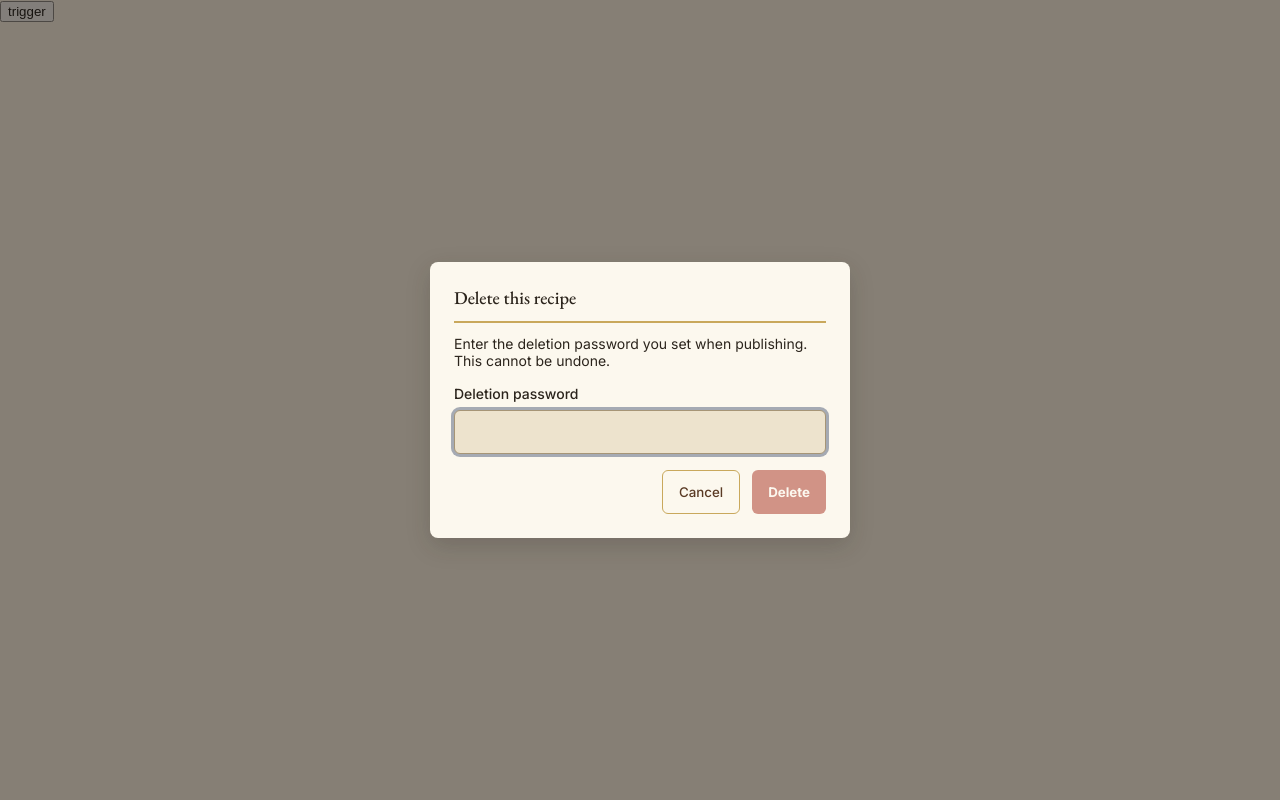
Test: DeleteRecipeDialog › 403でerrWrongPassword＋serverErrorを逐語表示する
Type "wrong-pw" into the password field labelled "Deletion password" at (640,432), box [454,410,826,454]
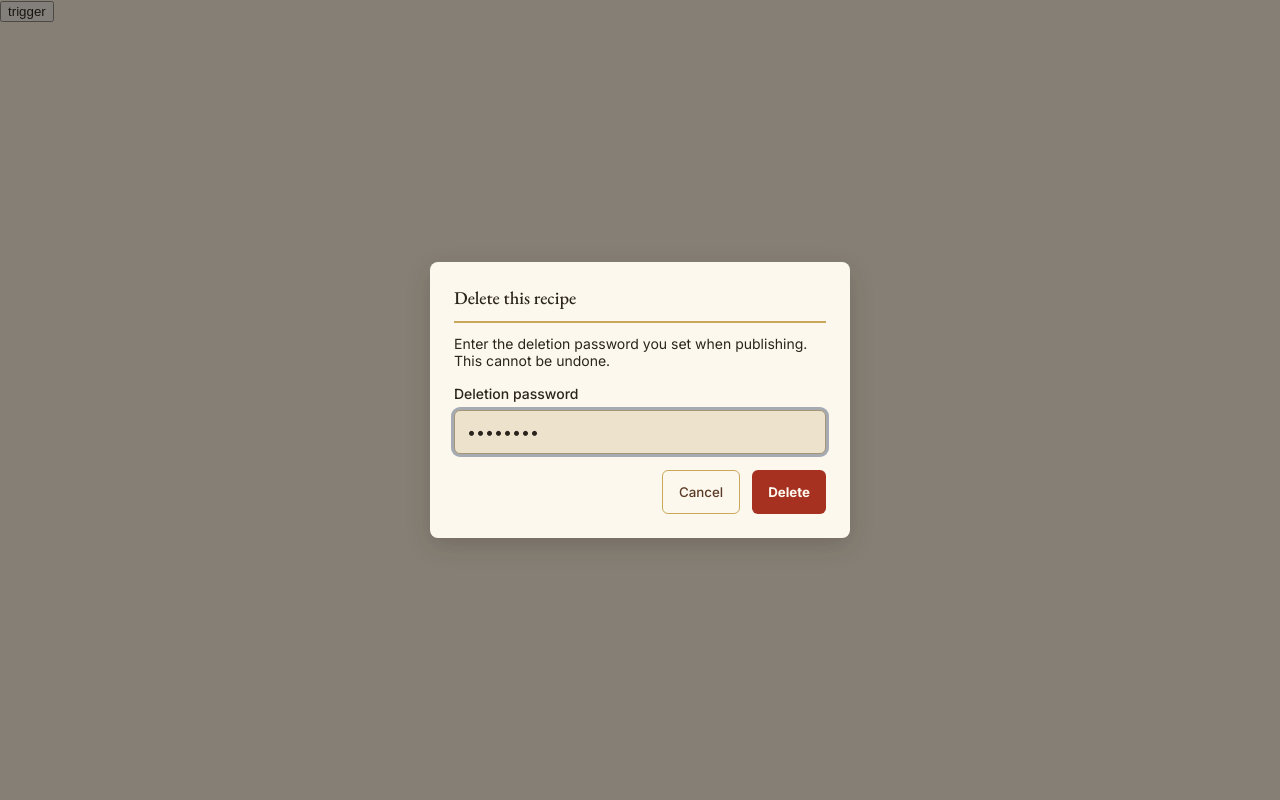
Click the button "Delete" at (789,492), box [752,470,826,514]
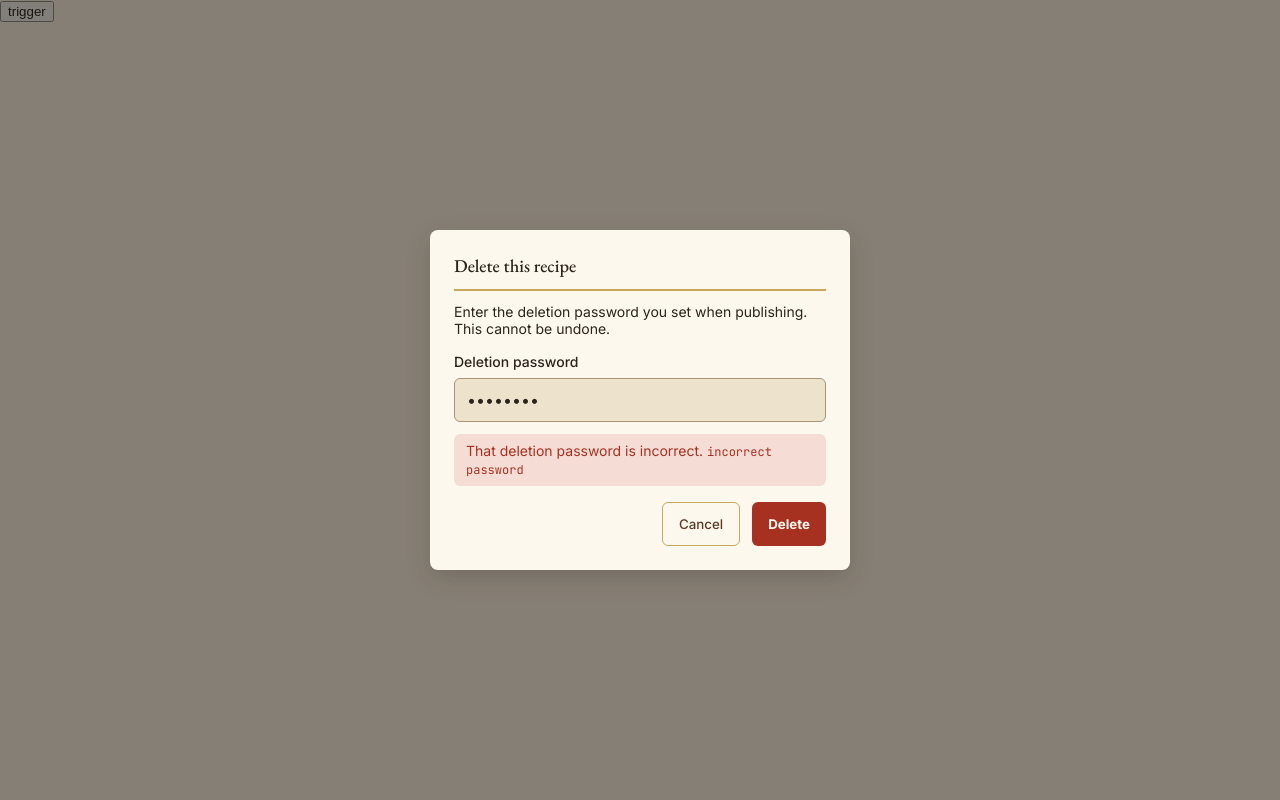
Check: the password field labelled "Deletion password" is enabled, box [454,378,826,422]
Check: the text "That deletion password is incorrect." is shown, box [466,442,703,459]
Check: the text "incorrect password" is shown, box [466,444,772,478]
